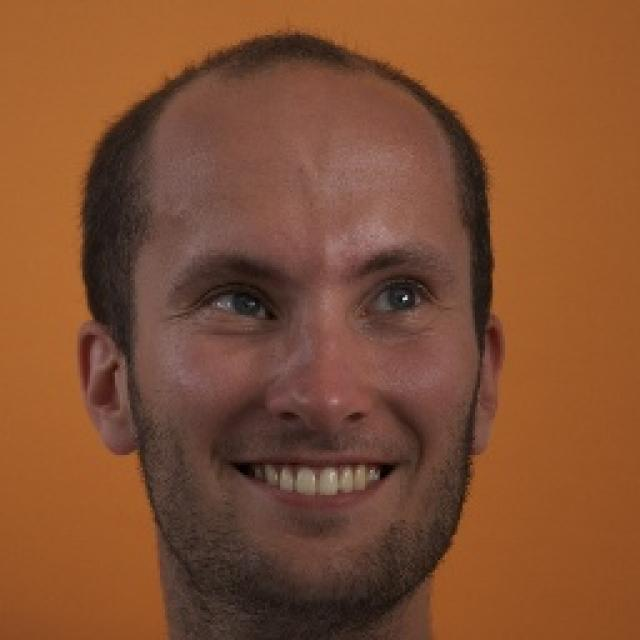earlobe: (75, 323, 137, 456), (469, 314, 505, 454)
